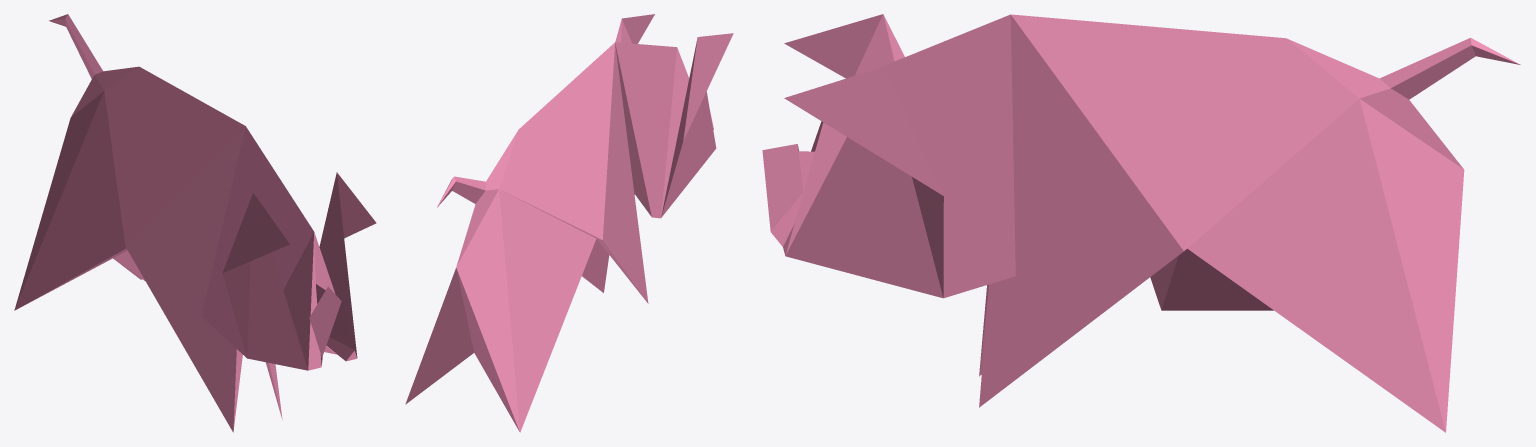
File: pig.glb
3 views of the same model, side by side, from view 1: azimuth 30°, elevation 25°; view 2: azimuth 150°, elevation 25°; view 3: azimuth 270°, elevation 25° (orthographic). The views are drawn at different scales.
Parts seen in each view (by area): view 1: Pig; view 2: Pig; view 3: Pig.
Part boxes in pixels (x1,y1,x2,y2): Pig: (14, 14, 376, 432); Pig: (405, 14, 733, 432); Pig: (762, 14, 1520, 432).
Size of the model in its own units: 0.4444 by 0.9793 by 1.78.
